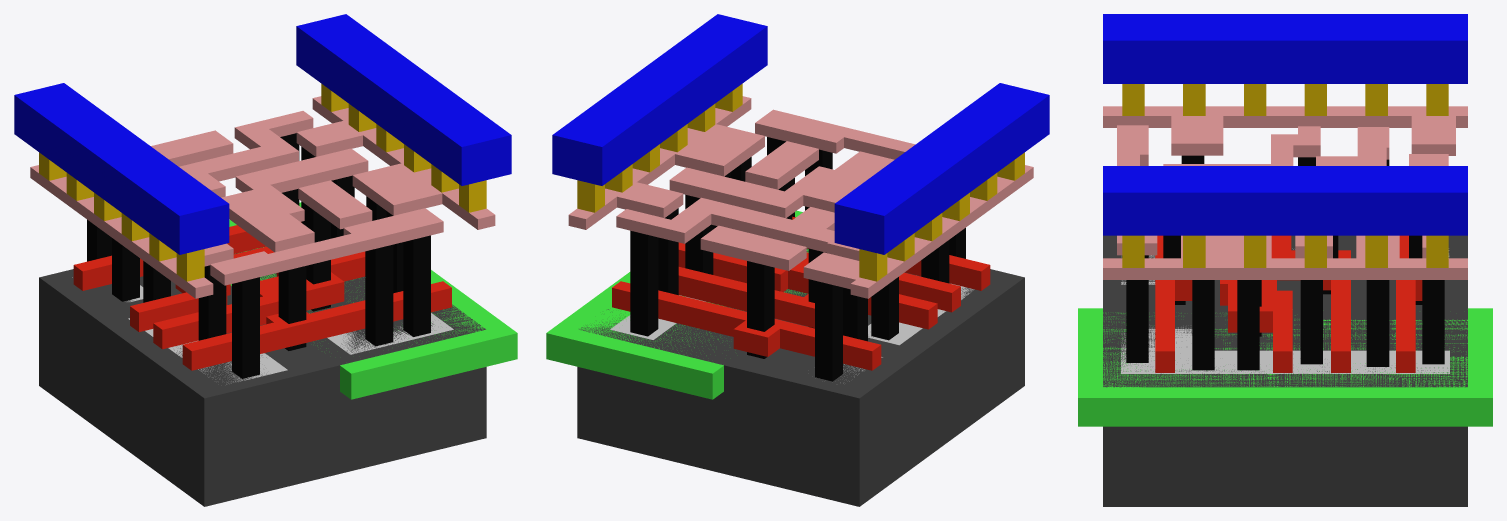
File: sky130_fd_sc_hd__lpflow_inputiso0p_1.obj
3 renders of one model, left to right at view 1: azimuth 30°, elevation 25°; view 2: azimuth 150°, elevation 25°; view 3: azimuth 270°, elevation 25°, orthographic. The views are drawn at different scales.
Visible parts, largest first — view 1: subs, metal1, li, licon, poly, nwell, mcon, tap, diff; view 2: subs, metal1, li, poly, licon, nwell, mcon, diff, tap; view 3: metal1, subs, nwell, li, licon, poly, mcon, tap.
Boxes of the visible parts, x1=… form: subs: x1=39, y1=246, x2=486, y2=506; metal1: x1=14, y1=14, x2=511, y2=254; li: x1=30, y1=96, x2=495, y2=298; licon: x1=87, y1=133, x2=430, y2=378; poly: x1=73, y1=222, x2=451, y2=370; nwell: x1=229, y1=202, x2=517, y2=399; mcon: x1=39, y1=83, x2=486, y2=281; tap: x1=327, y1=313, x2=453, y2=354; diff: x1=72, y1=277, x2=287, y2=384; subs: x1=577, y1=248, x2=1024, y2=506; metal1: x1=552, y1=14, x2=1049, y2=254; li: x1=568, y1=96, x2=1033, y2=298; poly: x1=612, y1=216, x2=990, y2=370; licon: x1=630, y1=137, x2=965, y2=381; nwell: x1=546, y1=210, x2=808, y2=399; mcon: x1=577, y1=83, x2=1024, y2=281; diff: x1=840, y1=283, x2=974, y2=383; tap: x1=610, y1=295, x2=705, y2=339; metal1: x1=1103, y1=14, x2=1467, y2=235; subs: x1=1103, y1=235, x2=1467, y2=506; nwell: x1=1078, y1=308, x2=1492, y2=426; li: x1=1103, y1=106, x2=1467, y2=279; licon: x1=1126, y1=155, x2=1444, y2=370; poly: x1=1155, y1=235, x2=1422, y2=372; mcon: x1=1122, y1=84, x2=1448, y2=267; tap: x1=1121, y1=327, x2=1449, y2=373.
Size of the model in its own units: 3.2 by 2.74 by 3.14.
